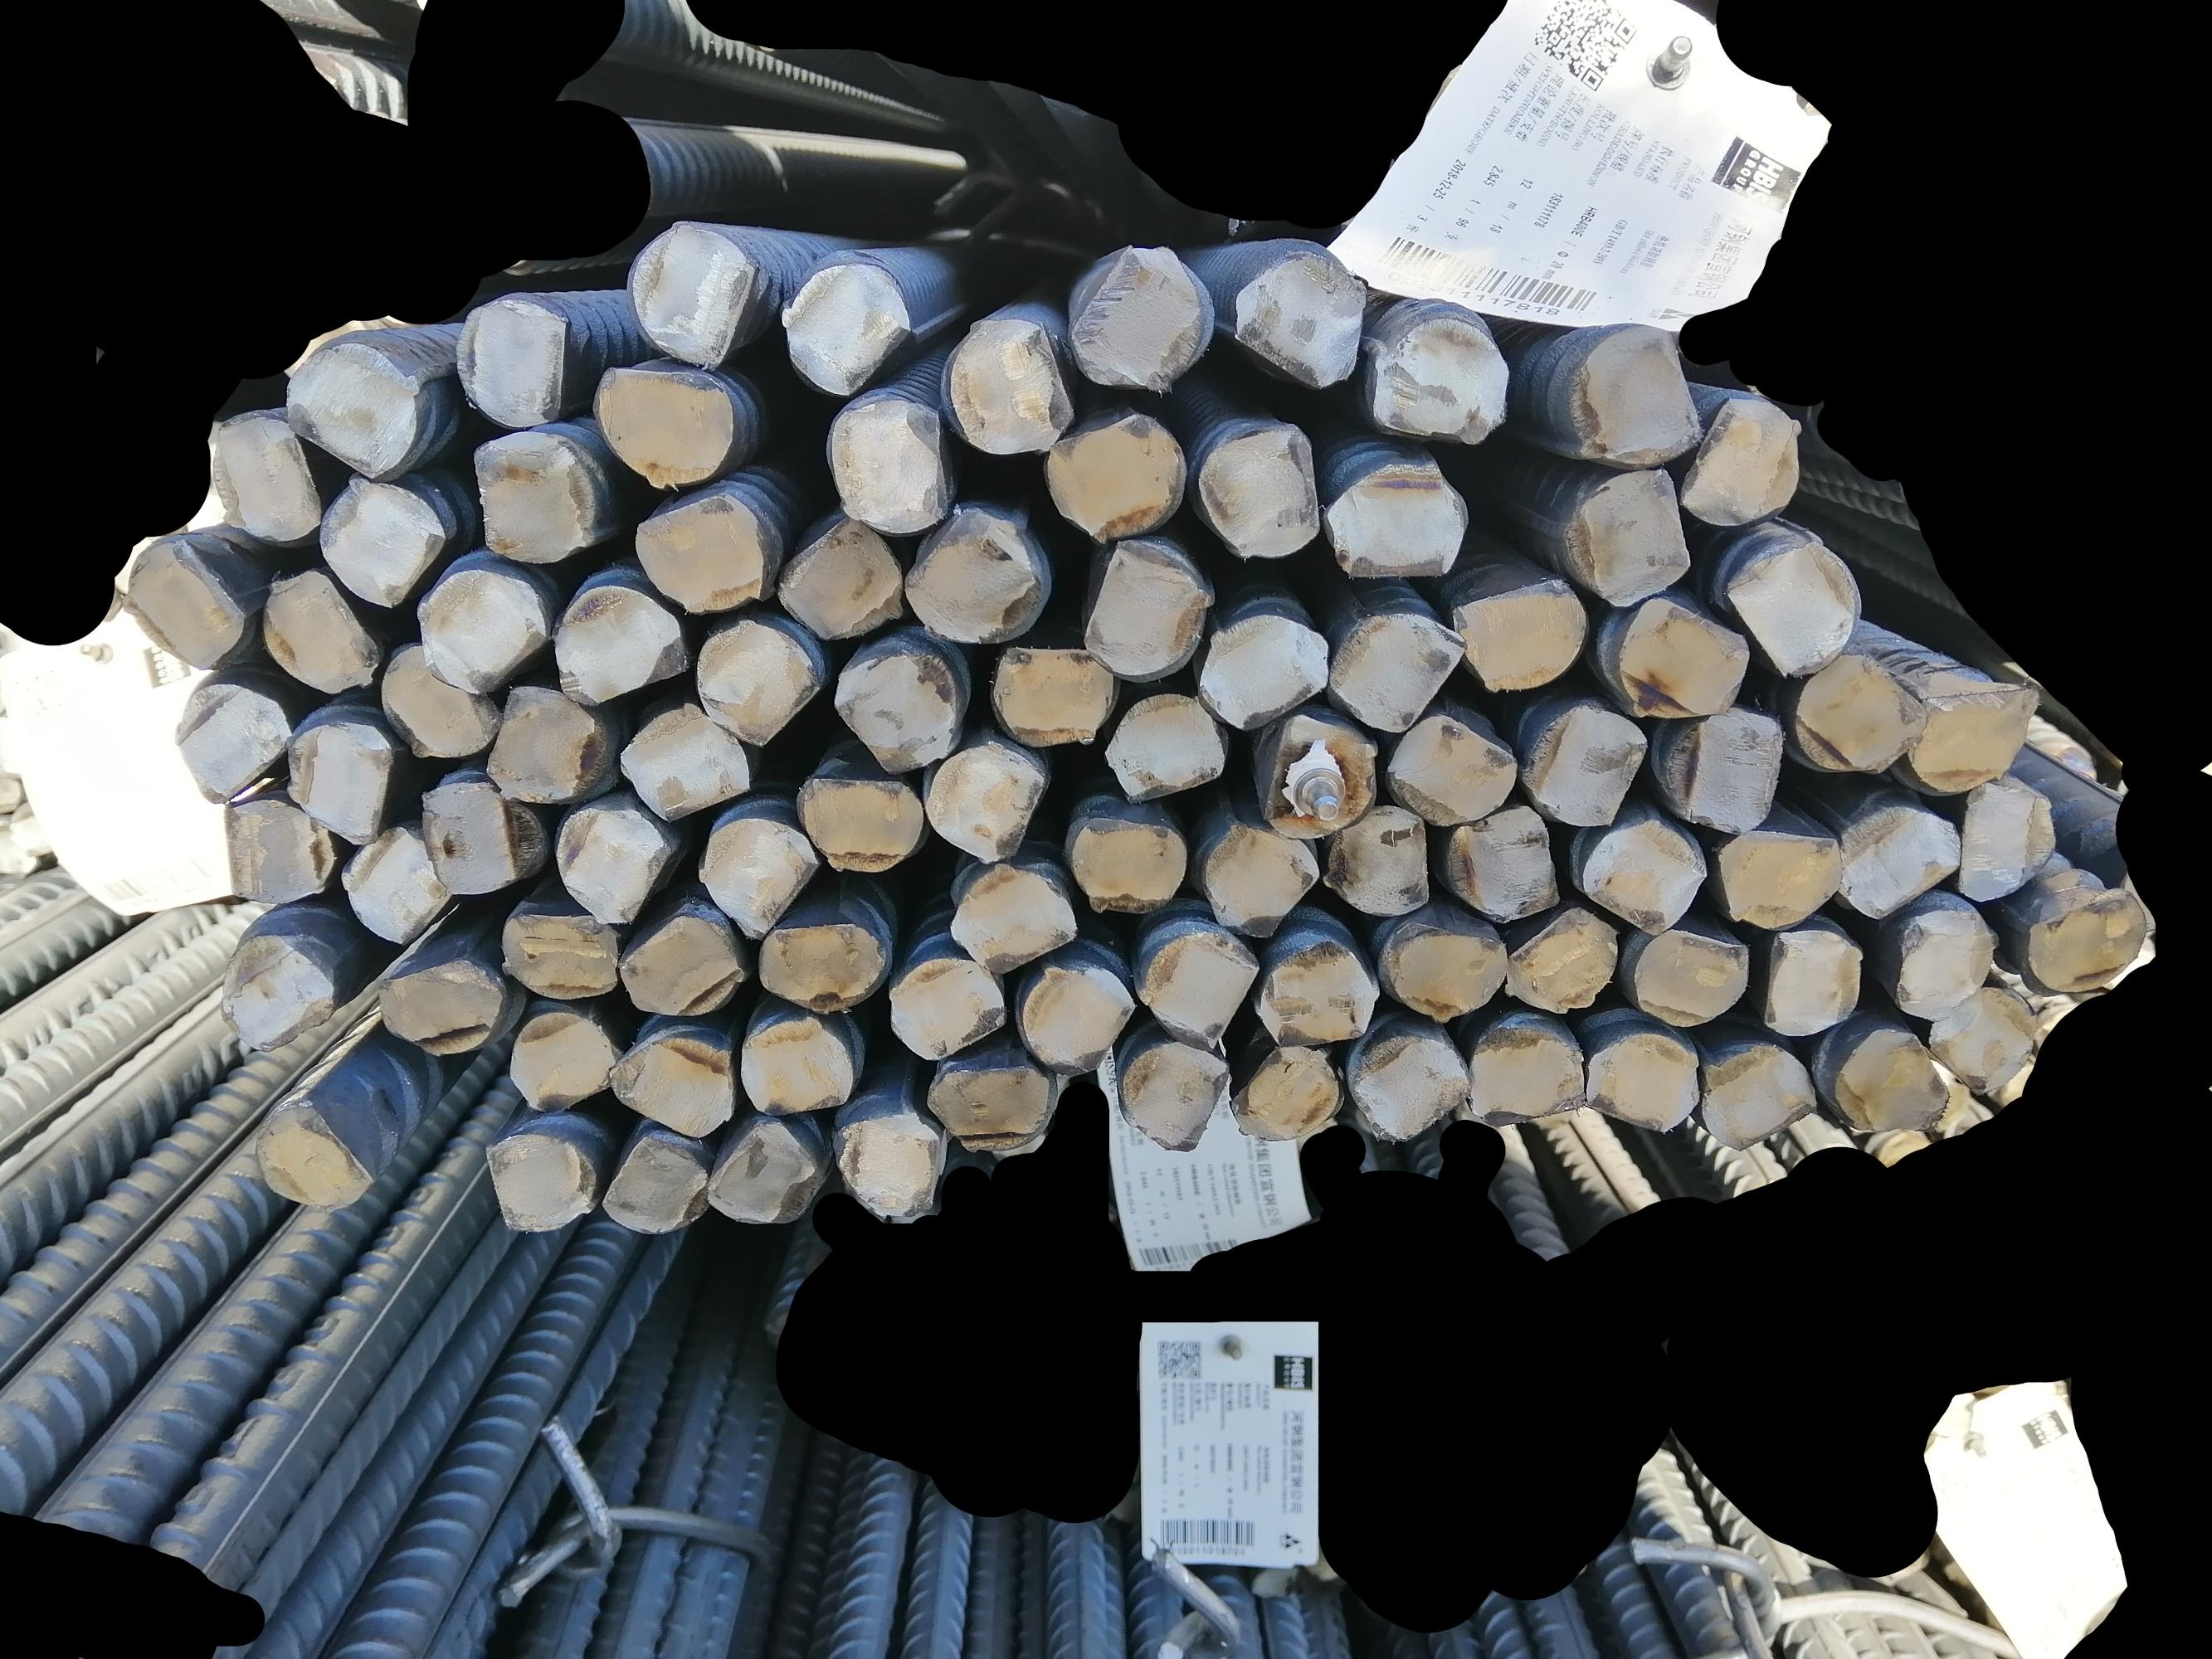rebar: (1067, 242, 1220, 396), (899, 502, 1055, 648), (1077, 533, 1218, 685), (1567, 322, 1706, 472), (936, 314, 1081, 457), (281, 340, 422, 484), (1724, 537, 1863, 683), (626, 221, 758, 375), (1044, 408, 1191, 545), (1232, 247, 1370, 392), (777, 260, 915, 401), (1370, 312, 1511, 448), (587, 364, 736, 493), (467, 429, 605, 566), (824, 397, 959, 538), (1562, 467, 1694, 610), (1320, 458, 1471, 580), (1325, 610, 1471, 735), (831, 641, 967, 775), (415, 566, 553, 697), (317, 476, 450, 610), (1673, 392, 1804, 528), (122, 540, 254, 673), (694, 617, 824, 751), (1616, 592, 1750, 723), (617, 701, 755, 828), (1196, 423, 1323, 561), (1450, 573, 1593, 695), (258, 565, 389, 697), (774, 516, 910, 643), (551, 587, 692, 709), (1659, 704, 1787, 838), (631, 491, 767, 617), (1792, 652, 1930, 775), (1252, 709, 1381, 840), (1520, 702, 1651, 831), (694, 816, 824, 943), (485, 681, 617, 807), (1194, 612, 1332, 732), (922, 739, 1049, 868), (453, 296, 572, 432), (251, 1091, 382, 1213), (417, 777, 549, 897), (1382, 713, 1518, 829), (1137, 929, 1264, 1053), (947, 861, 1081, 978), (171, 681, 295, 807), (377, 640, 504, 762), (1581, 817, 1710, 938), (1909, 681, 2041, 796), (985, 641, 1123, 751), (281, 718, 397, 847), (209, 415, 324, 545), (607, 1025, 737, 1140), (1102, 690, 1232, 805), (218, 932, 340, 1054), (551, 803, 673, 925), (1199, 821, 1323, 941), (1837, 803, 1963, 922), (1443, 803, 1565, 924), (1252, 938, 1381, 1051), (1715, 824, 1844, 936), (614, 913, 748, 1019), (338, 824, 453, 948), (1347, 1032, 1471, 1145), (1018, 964, 1138, 1079), (885, 955, 1009, 1066), (704, 1117, 828, 1227), (795, 775, 926, 878), (831, 1110, 947, 1227), (1116, 1037, 1231, 1154), (1893, 904, 2003, 1026), (1832, 1026, 1954, 1136), (1696, 1042, 1820, 1150), (1320, 803, 1435, 918), (377, 957, 507, 1058), (1959, 775, 2060, 906), (218, 798, 338, 908), (1503, 906, 1623, 1016), (1069, 809, 1191, 917), (2025, 890, 2151, 995), (1926, 985, 2039, 1100), (1630, 927, 1754, 1030), (1462, 1026, 1588, 1127), (755, 922, 894, 1012), (1583, 1032, 1703, 1136), (509, 1009, 626, 1115), (1227, 1040, 1347, 1143), (739, 1016, 858, 1119), (1759, 927, 1867, 1039), (483, 1131, 600, 1234), (926, 1063, 1053, 1157), (1386, 932, 1511, 1026), (600, 1133, 713, 1236), (499, 911, 622, 1002)
